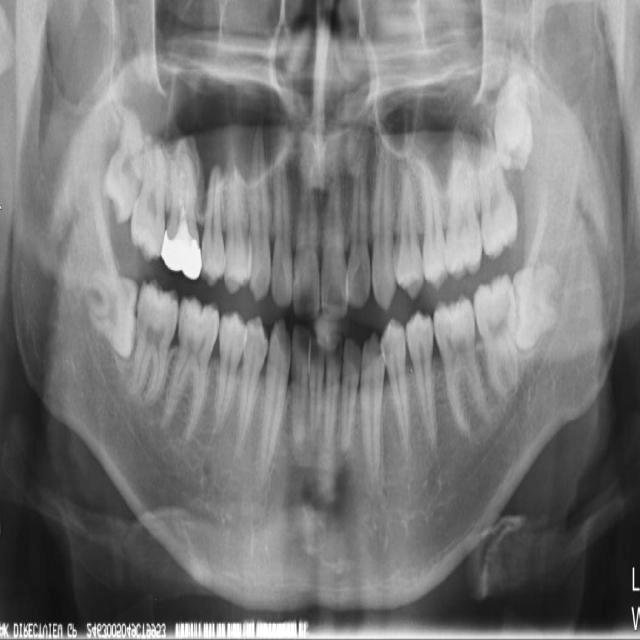Filling: (162, 218, 202, 279)
impacted tooth: (105, 98, 146, 218), (82, 274, 143, 354), (513, 266, 569, 349), (496, 65, 532, 164)
